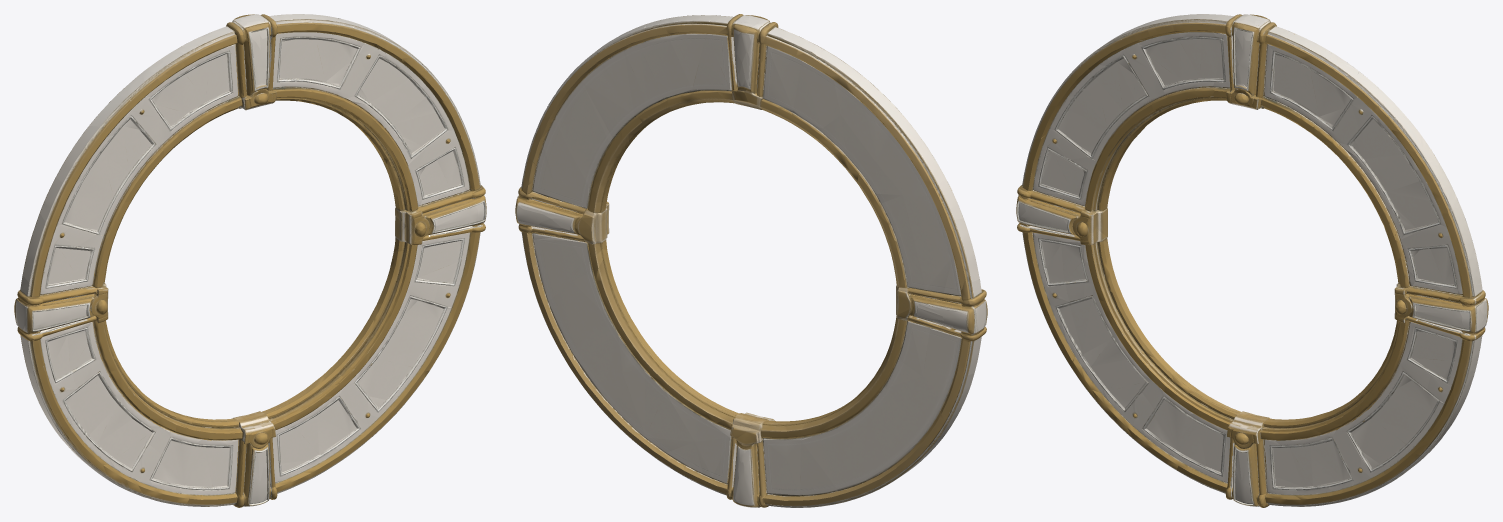
File: porthole-model-candidate-01.glb
The picture shows the model from 3 angles, left to right: view 1: azimuth 30°, elevation 25°; view 2: azimuth 150°, elevation 25°; view 3: azimuth 330°, elevation 25°; orthographic projection.
Parts seen in each view (by area): view 1: output_unwrapped; view 2: output_unwrapped; view 3: output_unwrapped.
Boxes of the visible parts, x1=… form: output_unwrapped: x1=14, y1=14, x2=486, y2=507; output_unwrapped: x1=515, y1=14, x2=987, y2=507; output_unwrapped: x1=1016, y1=14, x2=1488, y2=507.
Bounding box in the file's own units: 1.9 × 1.9 × 0.1684.
Materials: 1 (1 with a texture image).
